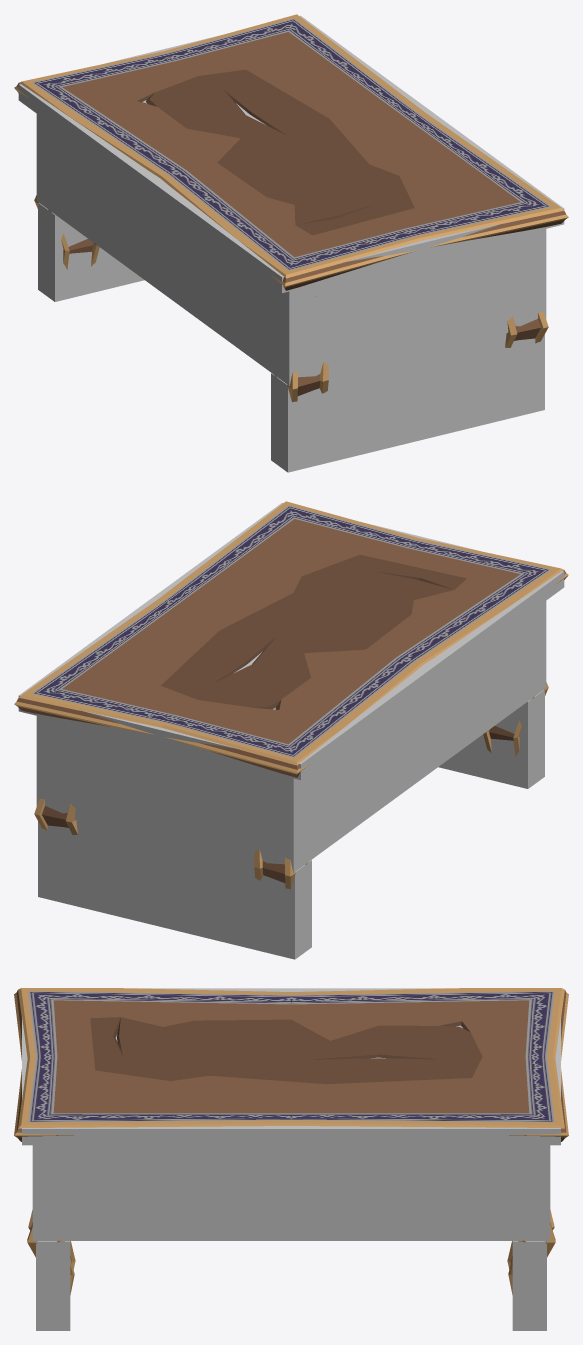
File: SM_Prop_Table_04.fbx
The picture shows the model from 3 angles, top to bottom: view 1: azimuth 30°, elevation 25°; view 2: azimuth 150°, elevation 25°; view 3: azimuth 270°, elevation 25°; orthographic projection. The views are drawn at different scales.
Parts seen in each view (by area): view 1: SM_Prop_Table_04_ConvexHulls, SM_Prop_Table_04; view 2: SM_Prop_Table_04_ConvexHulls, SM_Prop_Table_04; view 3: SM_Prop_Table_04, SM_Prop_Table_04_ConvexHulls.
Part boxes in pixels (x1=…): SM_Prop_Table_04_ConvexHulls: x1=18, y1=15, x2=564, y2=472; SM_Prop_Table_04: x1=14, y1=14, x2=568, y2=402; SM_Prop_Table_04_ConvexHulls: x1=18, y1=502, x2=564, y2=959; SM_Prop_Table_04: x1=14, y1=501, x2=568, y2=889; SM_Prop_Table_04: x1=14, y1=988, x2=568, y2=1294; SM_Prop_Table_04_ConvexHulls: x1=22, y1=988, x2=560, y2=1330.
Size of the model in its own units: 125 by 207 by 86.58.
Materials: 2 (1 with a texture image).
